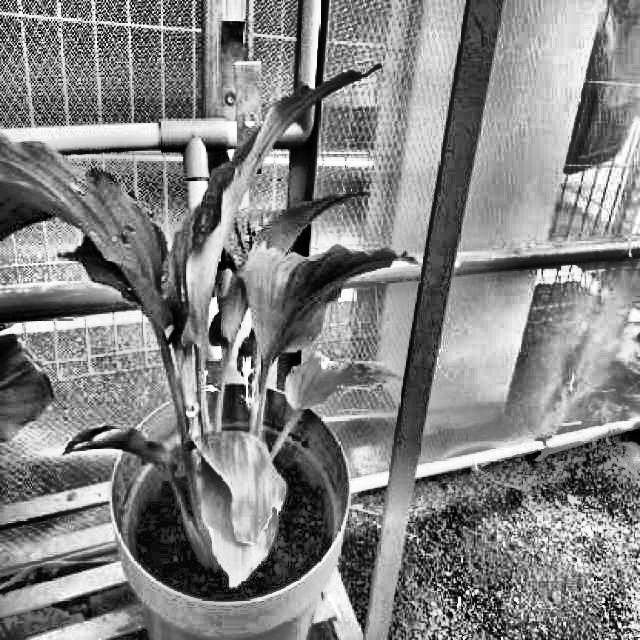plants: (0, 61, 417, 584)
